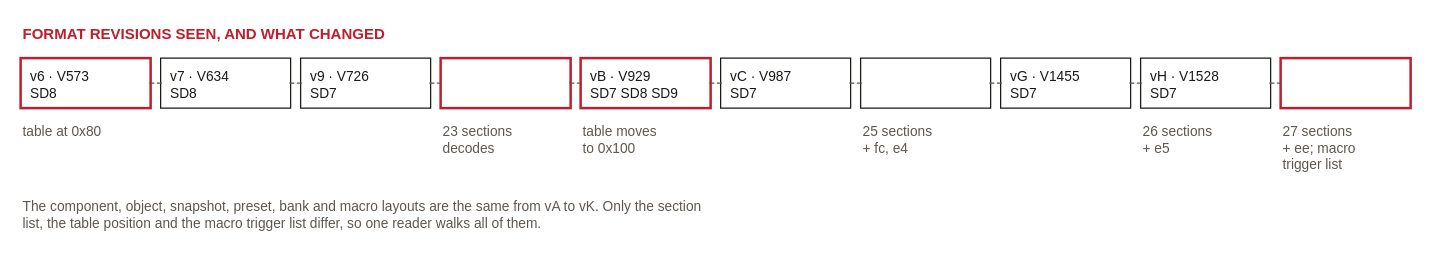
Image size: 1431x256. Some labels were removed from this diagram. The shapes that lost their labels are listed below. From the top down, each one's centre as x and y in pixels, then its label:
At point (505, 82): "vA · V760 SD7 SD8".
At point (925, 82): "vF · V1280 SD8".
At point (1345, 82): "vK · V1926 SD5".
